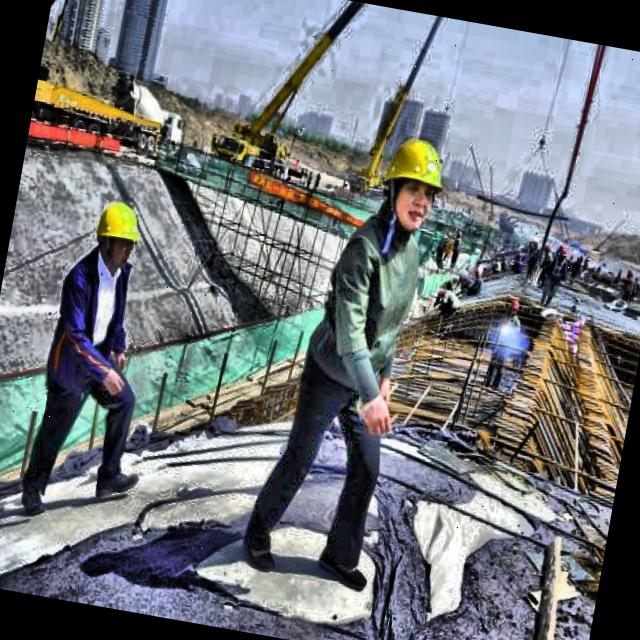helmet: (369, 124, 459, 242), (88, 194, 147, 274)
